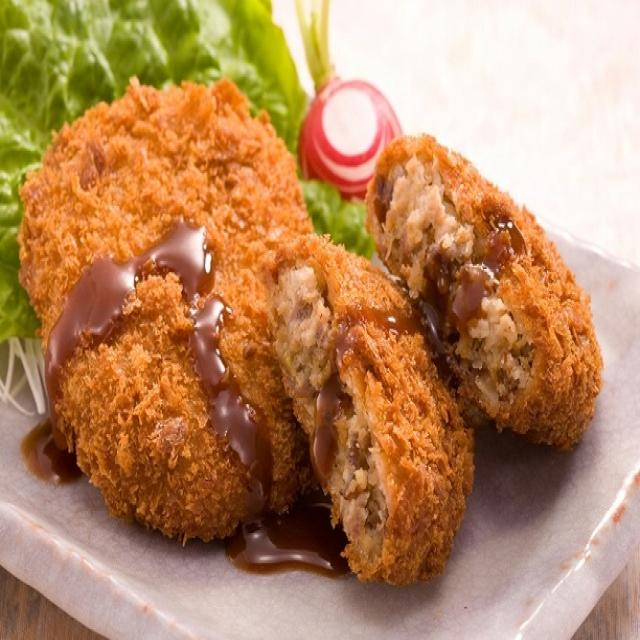炸货点心: (20, 55, 621, 596)
